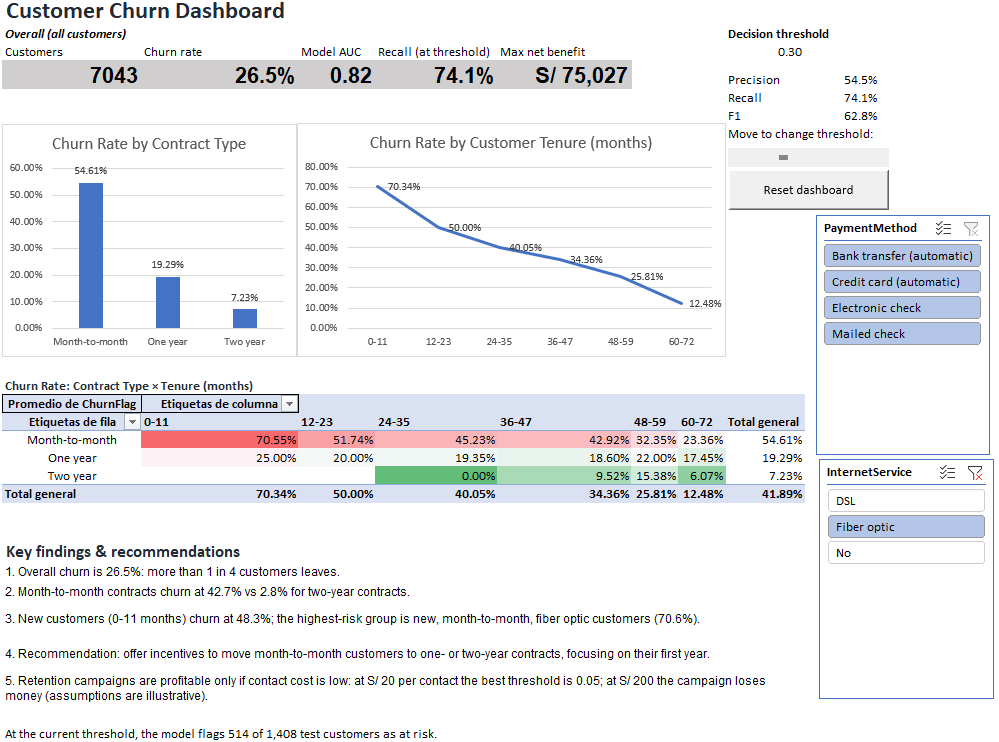

The page's visual inventory and layout, read from the dashboard file:
{"tool":"powerbi","page":{"name":"Página 1","canvas":[1920,1080],"ordinal":0},"visuals":[{"type":"clusteredColumnChart","title":"Churn Rate by Contract Type","fields":{"Category":["customers.Contract"],"Y":["customers.Churn Rate"]},"box":[0,288,912,720],"z":0},{"type":"card","fields":{"Values":["customers.Customers"]},"box":[544,144,560,144],"z":1000},{"type":"card","fields":{"Values":["customers.Churned"]},"box":[1104,144,552,144],"z":2000},{"type":"slicer","fields":{"Values":["customers.InternetService"]},"box":[1664,32,256,256],"z":3000},{"type":"lineChart","title":"Churn Rate by Customer Tenure (months)","fields":{"Category":["customers.Tenure Group"],"Y":["customers.Churn Rate"]},"box":[912,600,1008,408],"z":4000},{"type":"pivotTable","fields":{"Columns":["customers.Tenure Group"],"Rows":["customers.Contract"],"Values":["customers.Churn Rate"]},"box":[912,288,1008,312],"z":5000},{"type":"textbox","box":[0,0,1656,144],"z":5002},{"type":"card","fields":{"Values":["customers.Churn Rate"]},"box":[0,144,544,144],"z":5003}]}

Visuals, with their boxes on the page's 1920x1080 design canvas (x1, y1, x2, y2). These are canvas units, not pixel positions in the 999x742 screenshot, which may show the page scaled, cropped or inside an application window:
"Churn Rate by Contract Type" clusteredColumnChart: bbox=(0, 288, 912, 1008)
card - customers.Customers: bbox=(544, 144, 1104, 288)
card - customers.Churned: bbox=(1104, 144, 1656, 288)
slicer - customers.InternetService: bbox=(1664, 32, 1920, 288)
"Churn Rate by Customer Tenure (months)" lineChart: bbox=(912, 600, 1920, 1008)
pivotTable - customers.Tenure Group x customers.Contract: bbox=(912, 288, 1920, 600)
textbox: bbox=(0, 0, 1656, 144)
card - customers.Churn Rate: bbox=(0, 144, 544, 288)
